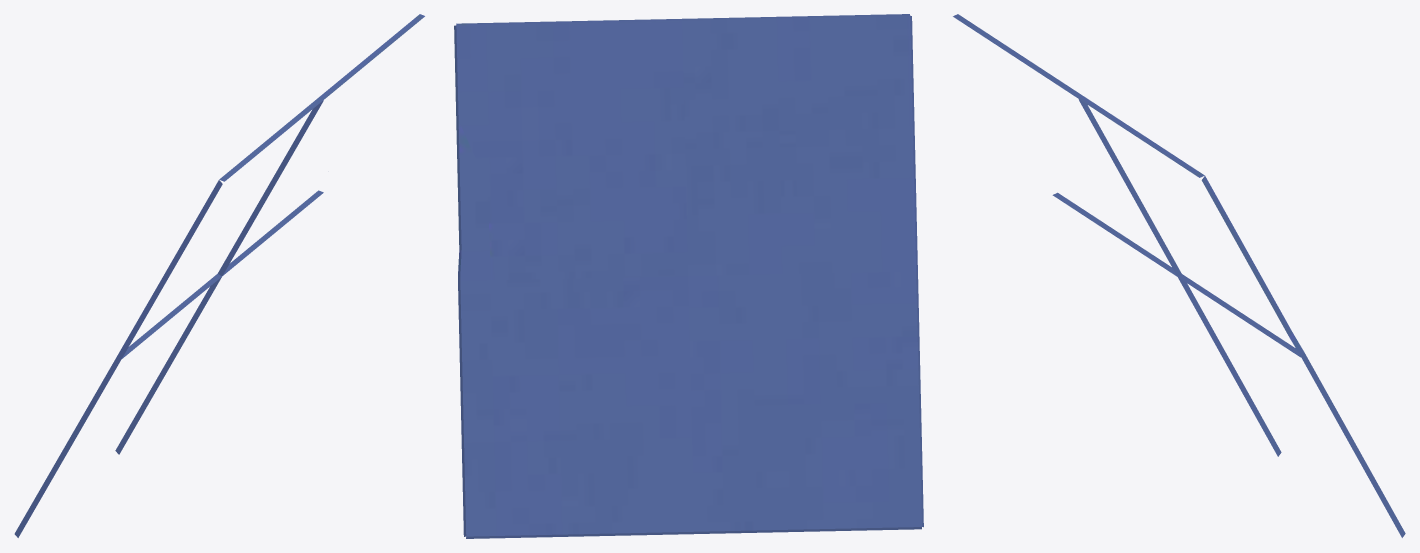
3 views of the same model, side by side, from view 1: azimuth 30°, elevation 25°; view 2: azimuth 150°, elevation 25°; view 3: azimuth 270°, elevation 25° (orthographic). The views are drawn at different scales.
Size of the model in its own units: 39451 by 35104 by 34669.
1 material, 1 textured.
